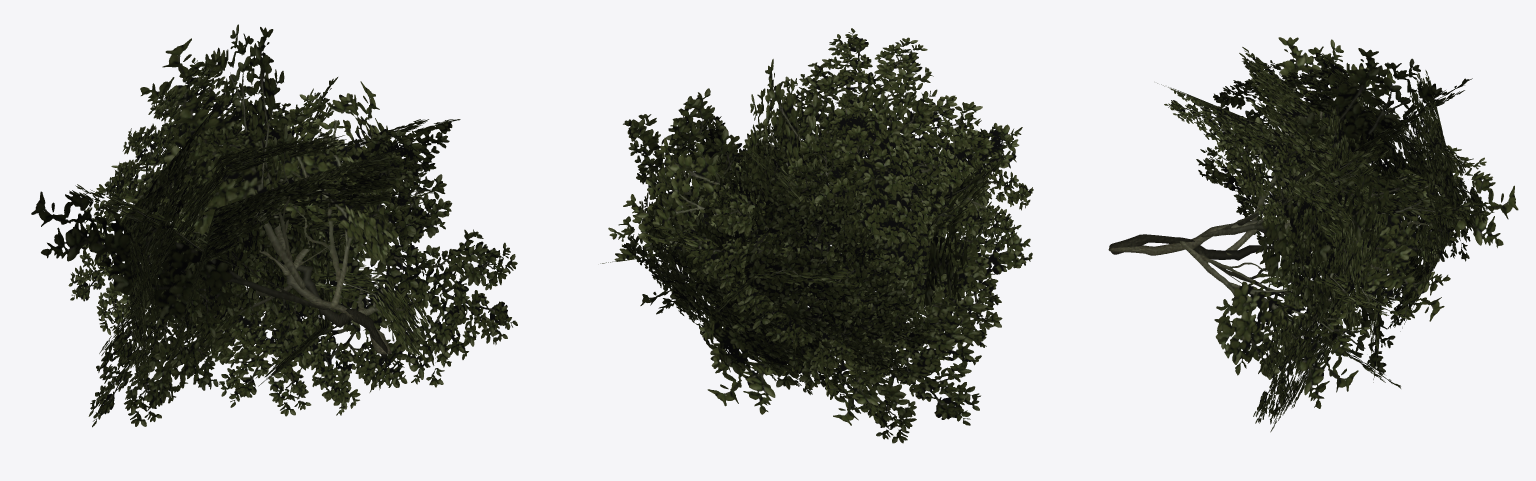
The model's file is MEP_Bush_02_d.fbx.
3 renders of one model, left to right at view 1: azimuth 30°, elevation 25°; view 2: azimuth 150°, elevation 25°; view 3: azimuth 270°, elevation 25°, orthographic. The views are drawn at different scales.
Visible parts, largest first — view 1: EP_Bush_02_d; view 2: EP_Bush_02_d; view 3: EP_Bush_02_d.
Boxes of the visible parts, x1,y1,x2,y2 form: EP_Bush_02_d: (31, 24, 517, 427); EP_Bush_02_d: (600, 28, 1033, 443); EP_Bush_02_d: (1108, 37, 1518, 432).
Size of the model in its own units: 8.09 by 6.82 by 6.81.
